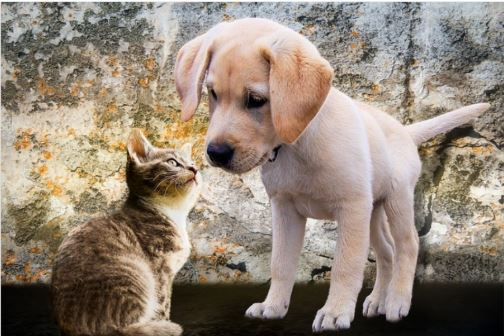cat: (126, 127, 203, 205)
dog: (174, 18, 347, 171)
